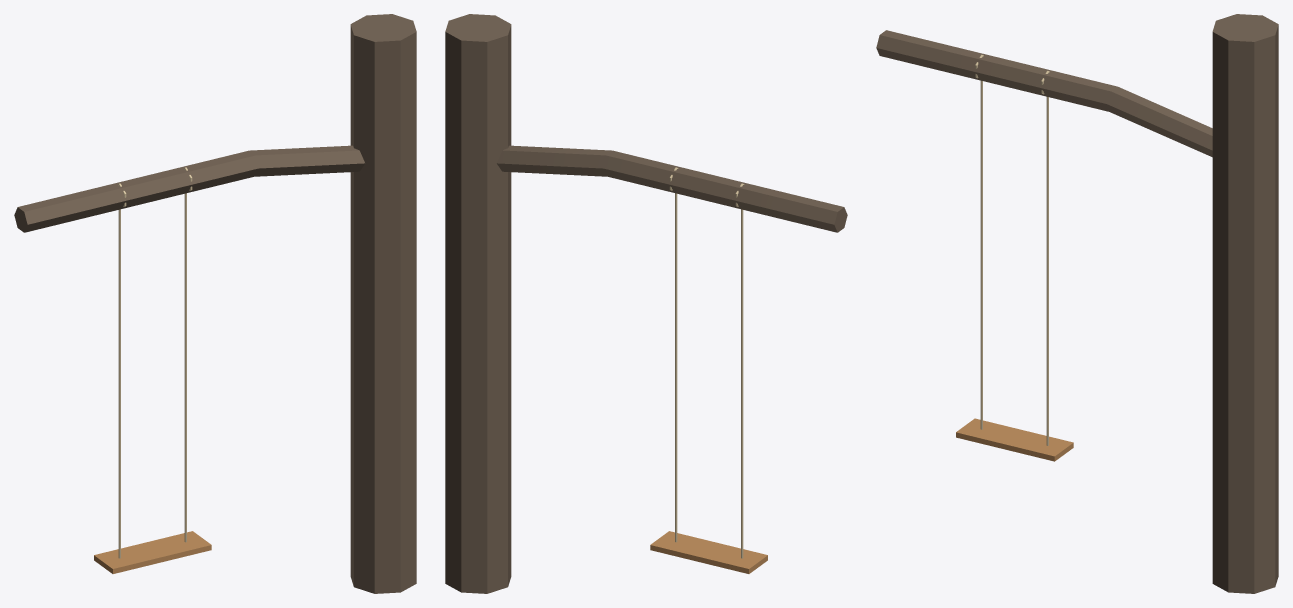
The model's file is swing_plank.mid.glb.
The picture shows the model from 3 angles, left to right: view 1: azimuth 30°, elevation 25°; view 2: azimuth 150°, elevation 25°; view 3: azimuth 330°, elevation 25°; orthographic projection.
Visible parts, largest first — view 1: swing_plank, seat_swing_plank; view 2: swing_plank, seat_swing_plank; view 3: swing_plank, seat_swing_plank.
Boxes of the visible parts, <box> form: swing_plank: <box>14,14,416,593</box>; seat_swing_plank: <box>94,193,211,573</box>; swing_plank: <box>445,14,847,593</box>; seat_swing_plank: <box>650,193,767,573</box>; swing_plank: <box>876,14,1278,593</box>; seat_swing_plank: <box>956,80,1073,461</box>.
Size of the model in its own units: 2.38 by 3.2 by 0.36.
